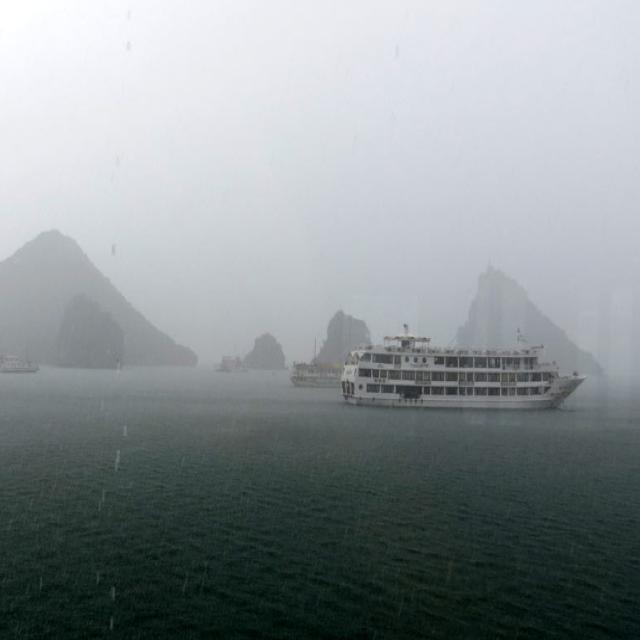passenger ship: (325, 336, 576, 408)
